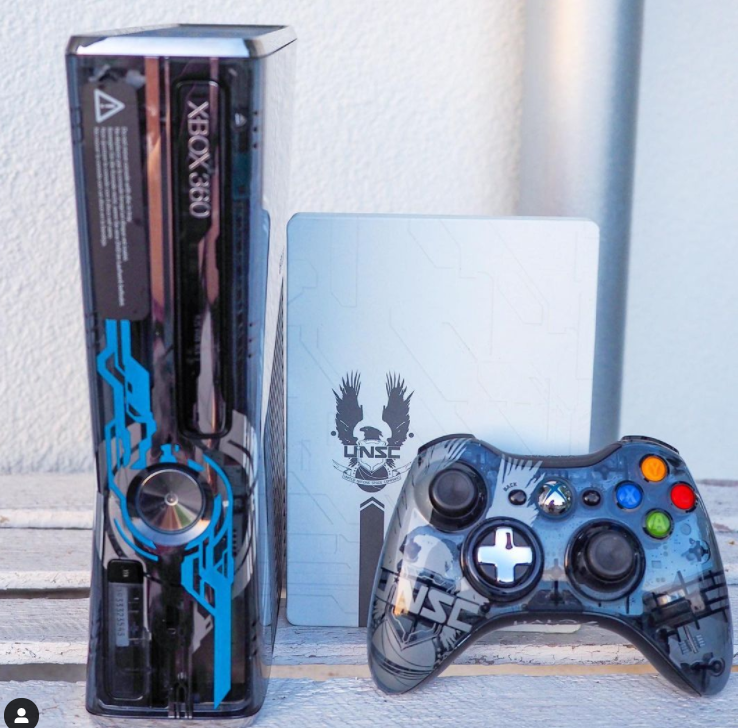gamingconsole: (369, 433, 730, 698)
